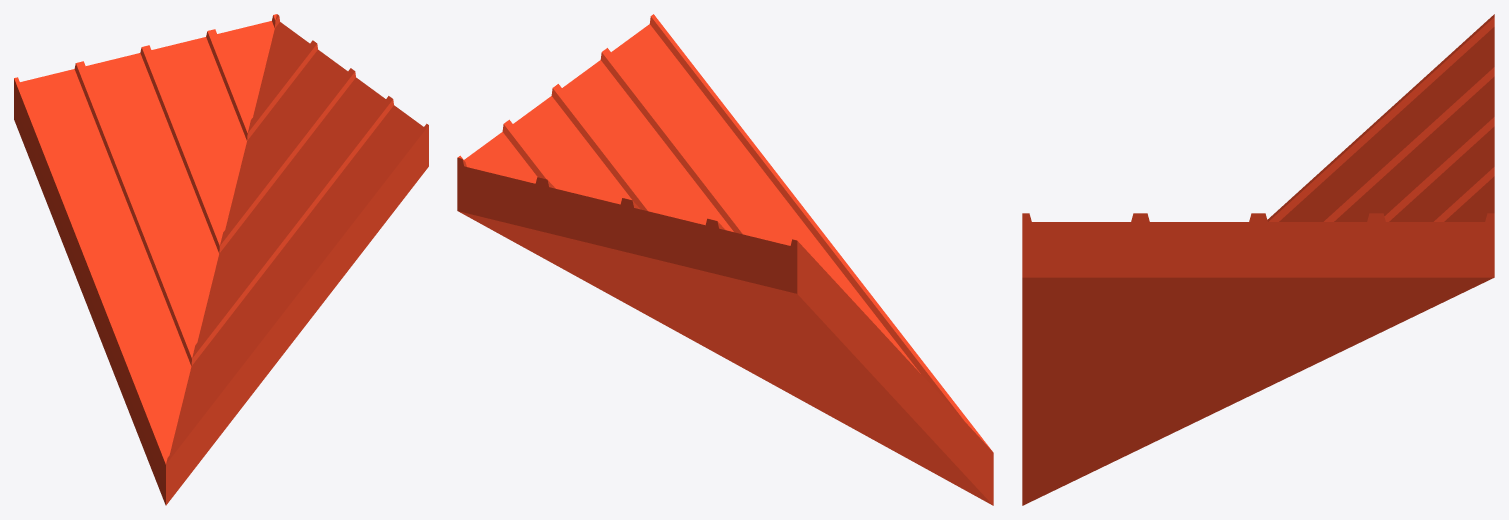
The model's file is roof-metal-regular-2x2m-corner-b.fbx.
The picture shows the model from 3 angles, left to right: view 1: azimuth 30°, elevation 25°; view 2: azimuth 150°, elevation 25°; view 3: azimuth 270°, elevation 25°; orthographic projection. The views are drawn at different scales.
Parts seen in each view (by area): view 1: roof-metal-regular-2x2m-corner-b; view 2: roof-metal-regular-2x2m-corner-b; view 3: roof-metal-regular-2x2m-corner-b.
Part boxes in pixels (box(x1,y1,x2,y2)): roof-metal-regular-2x2m-corner-b: box(14, 14, 428, 505); roof-metal-regular-2x2m-corner-b: box(457, 14, 993, 505); roof-metal-regular-2x2m-corner-b: box(1022, 14, 1494, 505).
Size of the model in its own units: 2 by 2.3 by 2.
